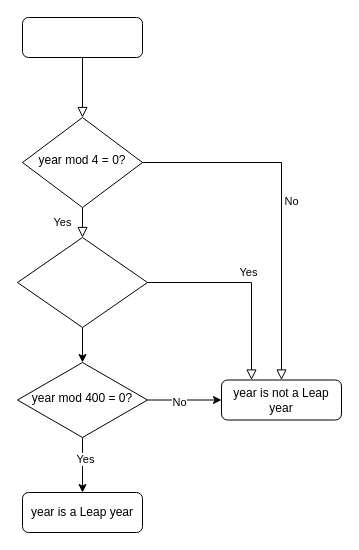
This 359x550 diagram has some shape labels left out. The centre of each missing label's shape, as x and y in pixels:
introude a year: the point at 82,37
year mod 100 = 0?: the point at 82,282
